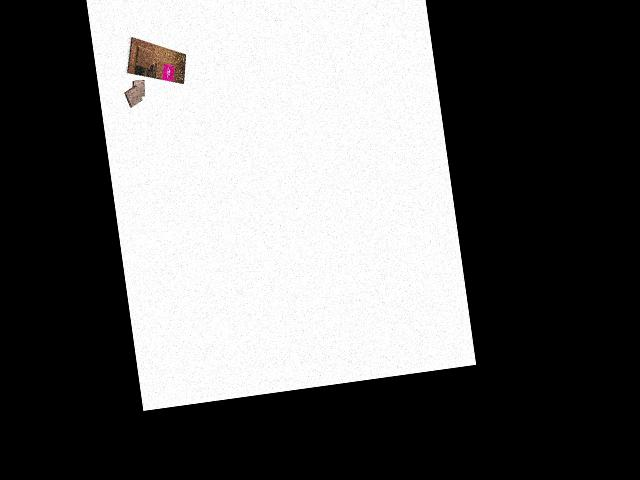chocolate: (121, 29, 190, 92)
